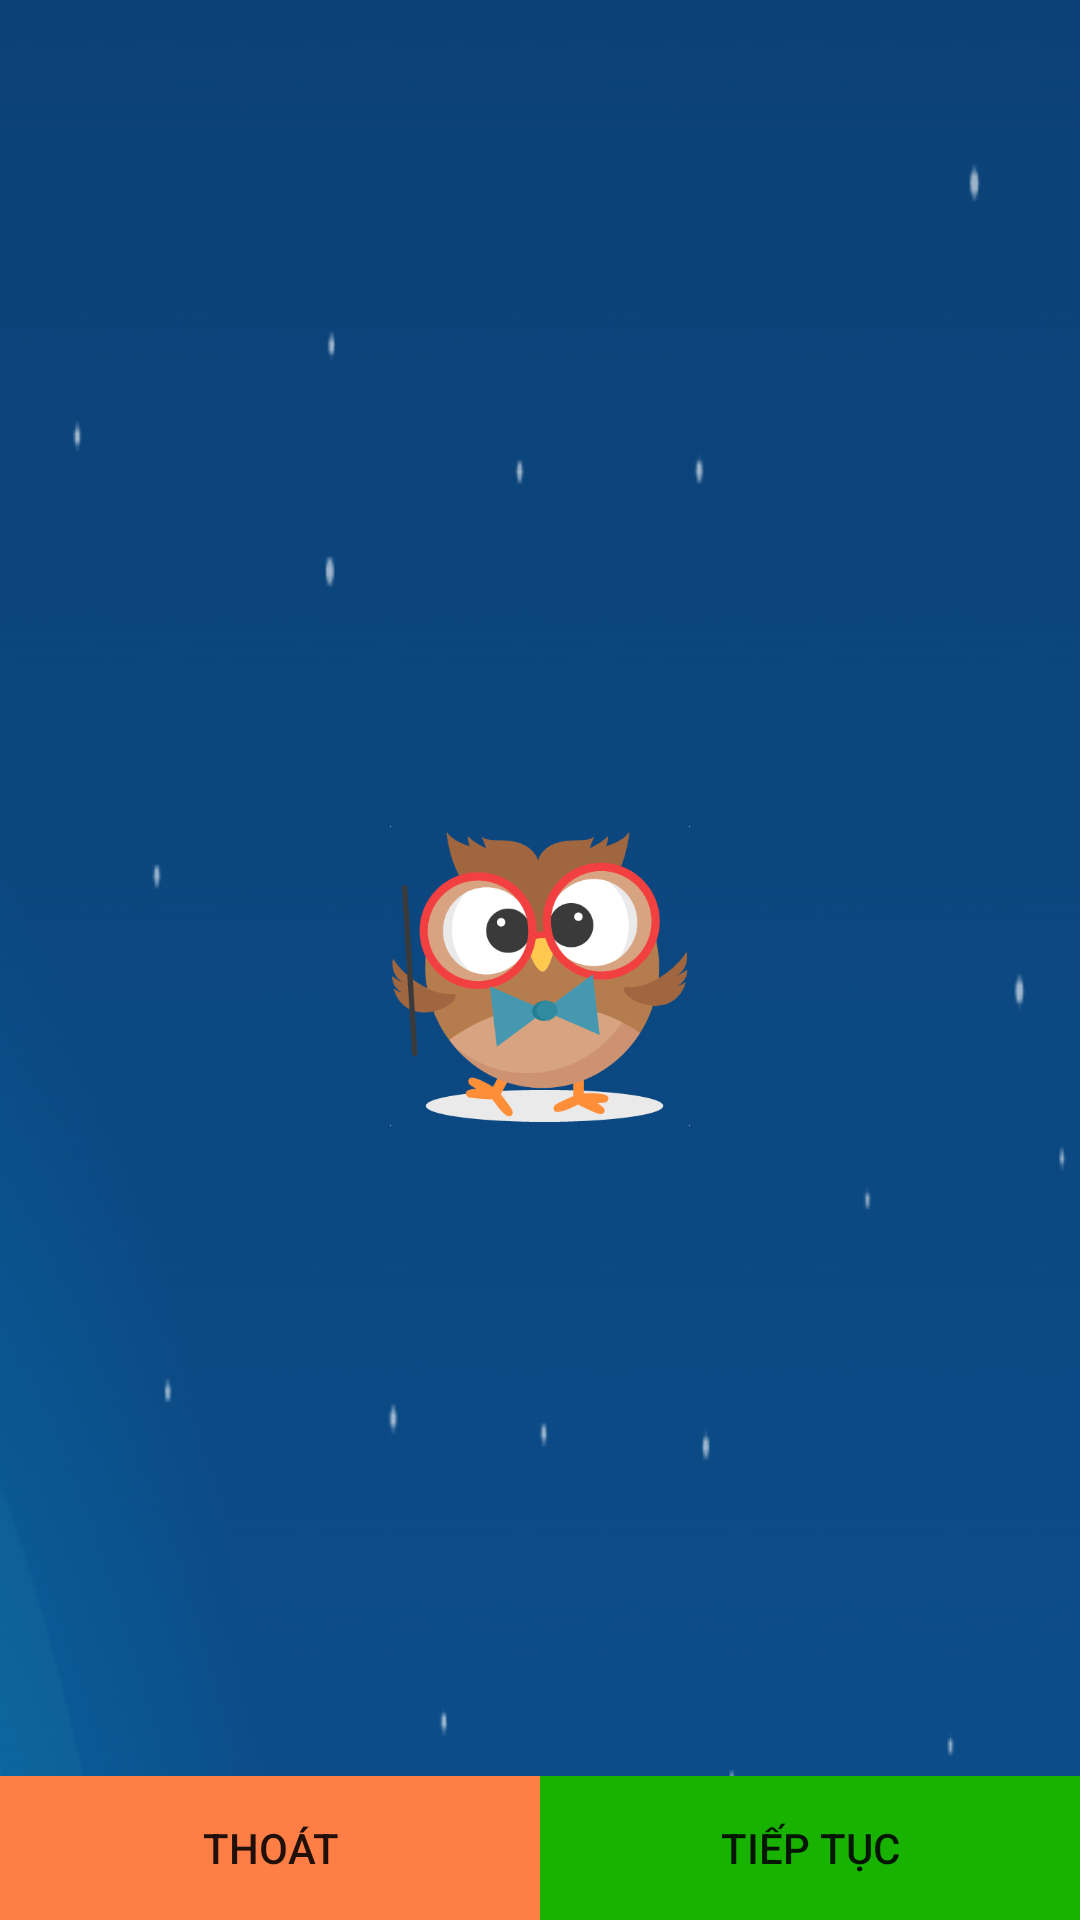

Where to tap for icons on this 1080x1920 app screen, as (x,y):
owl: (540,976)
